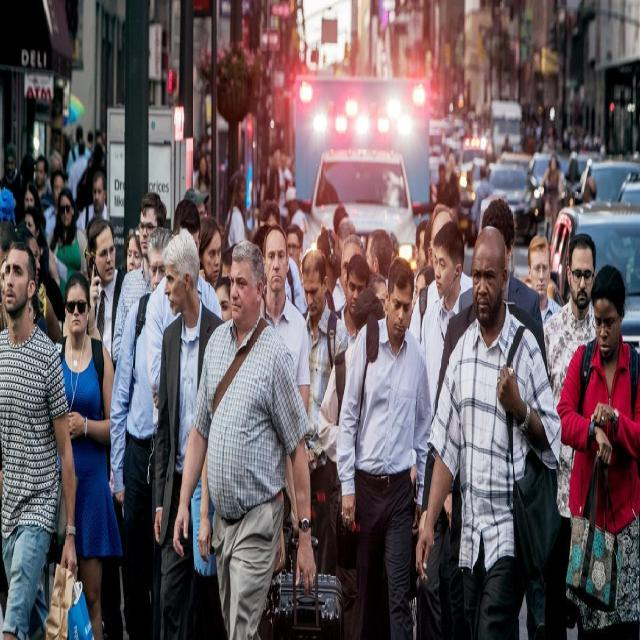body: (411, 220, 562, 639), (170, 236, 317, 639), (334, 250, 436, 639), (0, 236, 98, 639), (143, 194, 224, 640), (418, 293, 548, 567), (554, 259, 640, 639), (152, 229, 225, 640), (109, 224, 179, 639), (53, 269, 123, 640), (84, 216, 128, 640), (316, 286, 385, 536), (542, 232, 598, 521), (299, 246, 349, 474), (458, 197, 544, 328), (421, 219, 473, 427), (111, 188, 168, 374), (256, 225, 310, 420), (301, 202, 452, 270), (23, 124, 110, 196), (248, 120, 300, 228), (45, 189, 90, 306), (525, 234, 564, 328), (524, 110, 602, 154), (442, 108, 494, 162), (203, 221, 230, 321), (191, 132, 221, 218), (333, 275, 386, 322), (539, 152, 563, 245), (0, 141, 25, 228), (75, 168, 108, 232), (223, 170, 247, 250), (36, 275, 67, 336), (23, 197, 56, 251), (470, 162, 492, 236), (0, 190, 8, 326), (286, 252, 304, 305), (412, 273, 429, 319), (450, 166, 464, 217), (435, 163, 449, 205), (580, 171, 599, 201), (500, 131, 514, 162), (288, 231, 302, 262)
